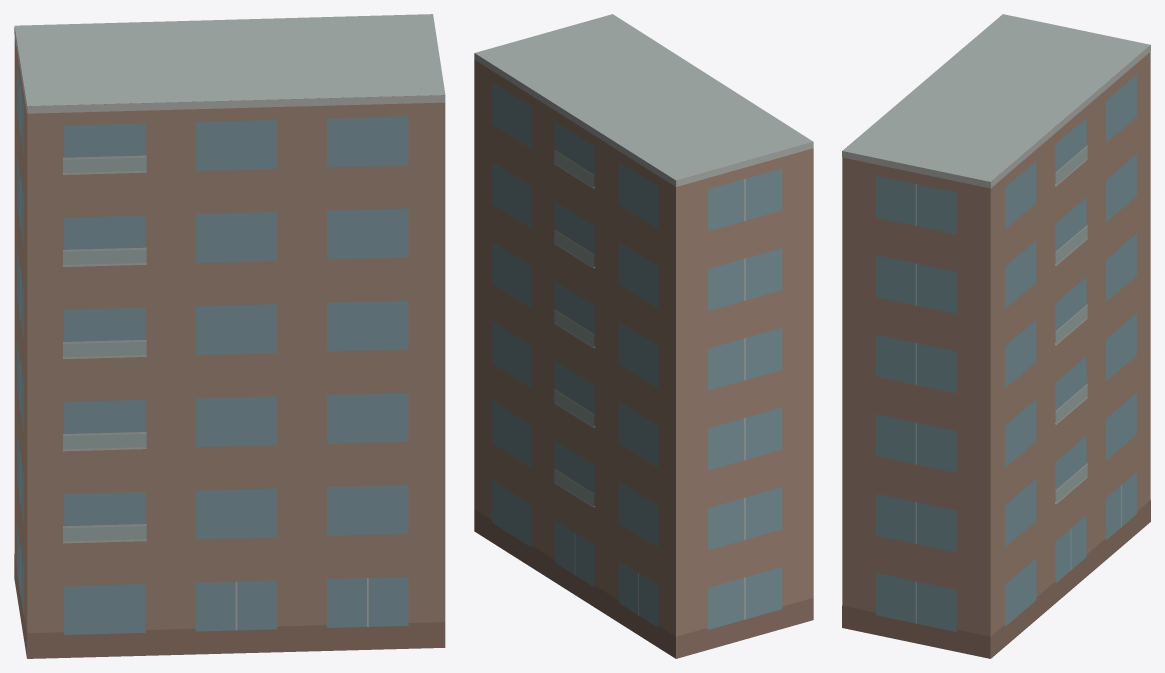
Rendered from survey-upis-32733554.glb.
3 views of the same model, side by side, from view 1: azimuth 30°, elevation 25°; view 2: azimuth 150°, elevation 25°; view 3: azimuth 270°, elevation 25° (orthographic). The views are drawn at different scales.
Parts seen in each view (by area): view 1: survey-upis-32733554.tmp; view 2: survey-upis-32733554.tmp; view 3: survey-upis-32733554.tmp.
Boxes of the visible parts, box(x1,y1,x2,y2) form: survey-upis-32733554.tmp: box(14, 14, 445, 658); survey-upis-32733554.tmp: box(474, 14, 813, 658); survey-upis-32733554.tmp: box(842, 14, 1150, 658).
Size of the model in its own units: 13.53 by 17.9 by 10.51.
